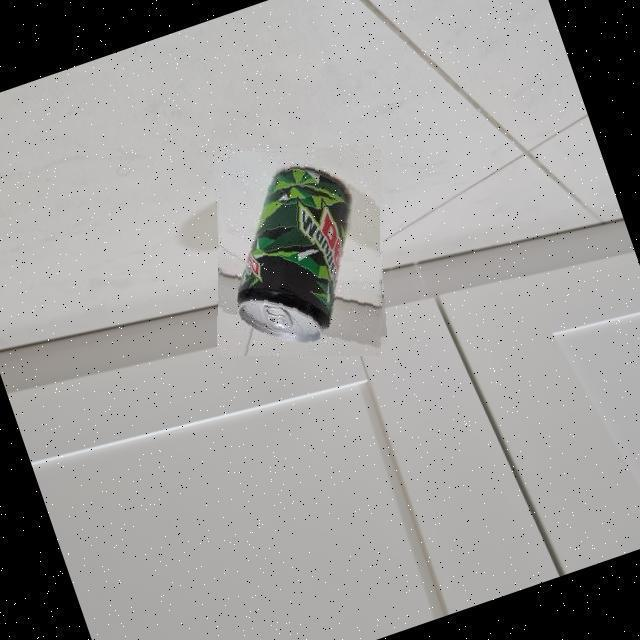recyclable: (217, 147, 384, 356)
